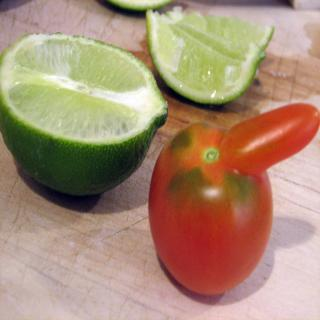tomato: (154, 108, 290, 302)
